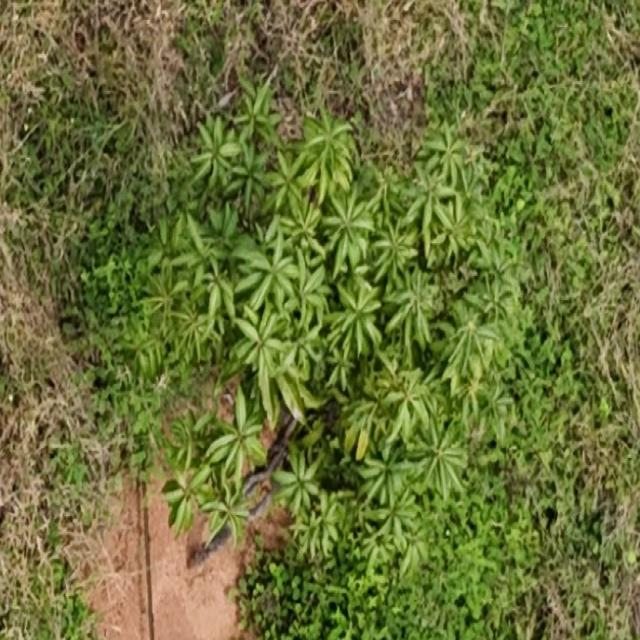mangoTree: (120, 67, 525, 590)
